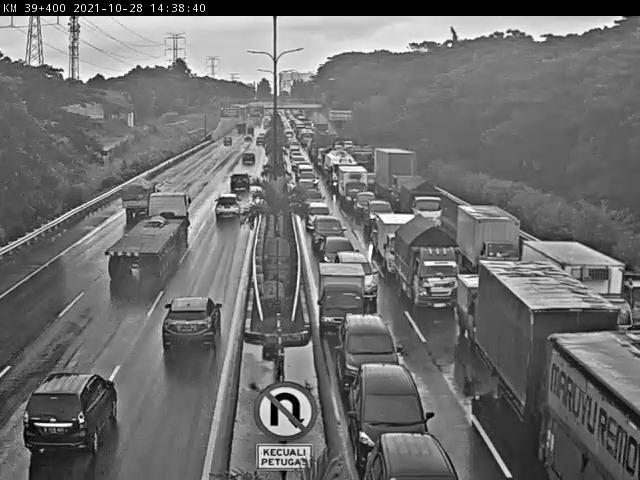big truck: (474, 263, 616, 415), (548, 338, 640, 480), (108, 190, 192, 287)
car: (21, 373, 113, 446), (355, 360, 429, 437), (162, 289, 229, 359), (363, 433, 462, 480), (344, 315, 392, 370), (365, 202, 396, 234), (313, 216, 346, 246), (305, 201, 332, 230), (214, 194, 241, 220), (232, 170, 255, 197), (358, 191, 378, 219)
small truck: (522, 237, 640, 333), (402, 216, 462, 304), (320, 263, 371, 333), (459, 206, 523, 257), (378, 215, 442, 265), (333, 248, 386, 305), (377, 144, 426, 197), (402, 181, 452, 220), (123, 179, 155, 221), (320, 238, 354, 257)
